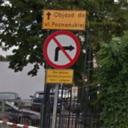NoVirarDireita: (39, 30, 81, 68)
